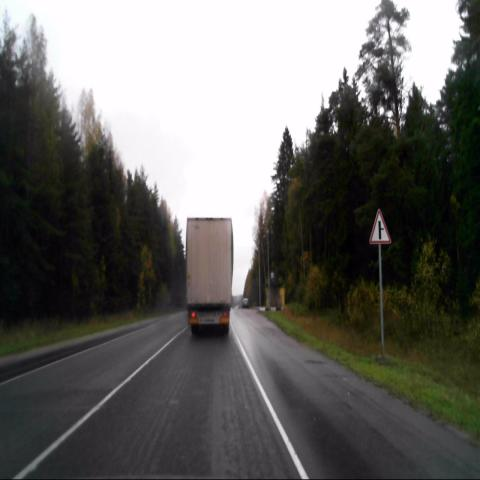2_3_2: (368, 208, 392, 247)
